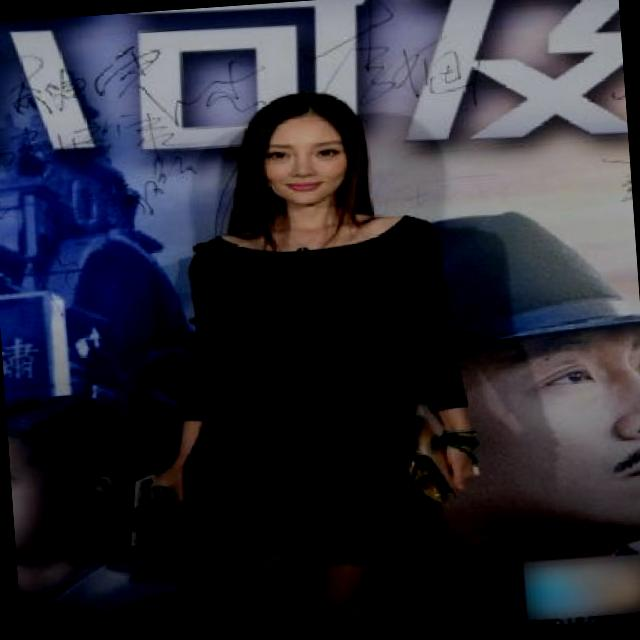Person: (174, 67, 438, 638)
